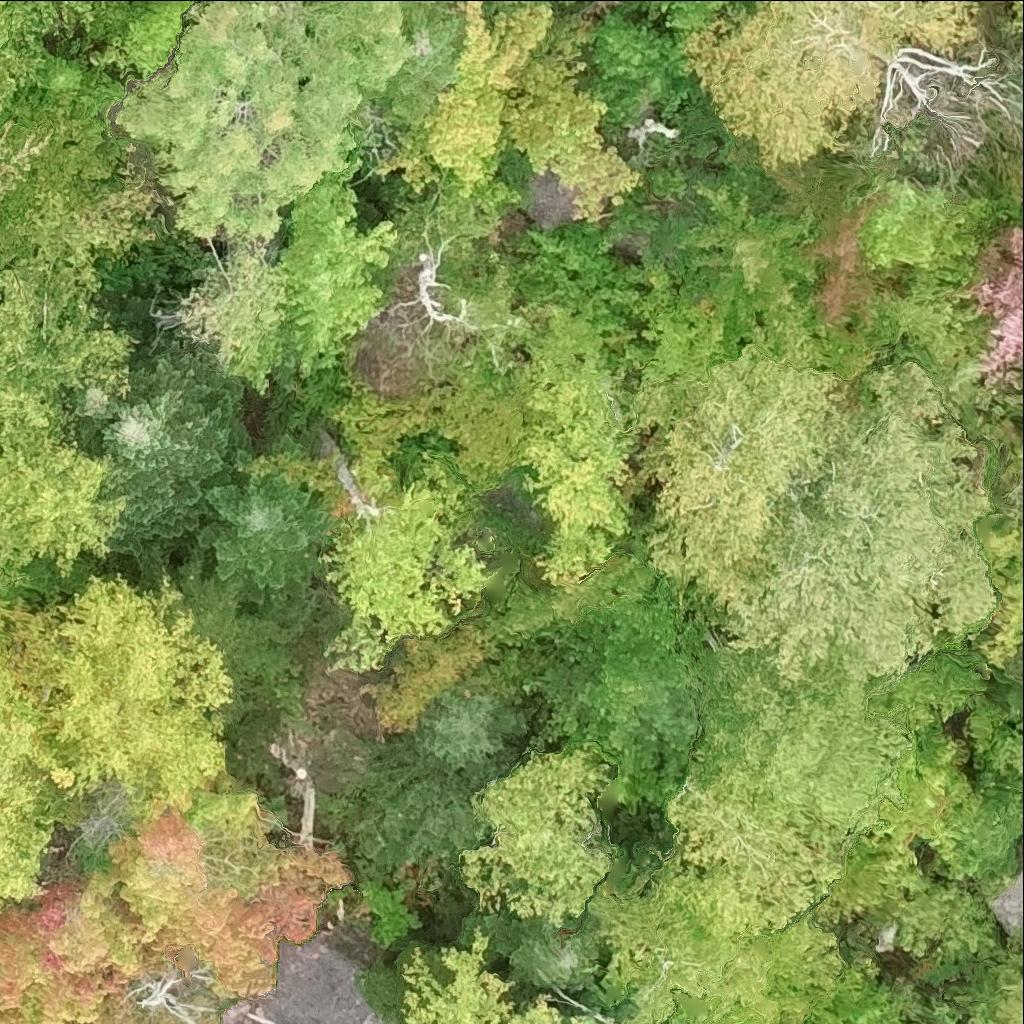crown: (729, 361, 996, 685), (0, 572, 232, 913), (634, 345, 876, 622), (108, 772, 351, 1006), (682, 0, 981, 173), (686, 636, 913, 852), (331, 287, 559, 479), (232, 171, 402, 398), (0, 52, 160, 289), (319, 458, 486, 673), (373, 0, 550, 197), (538, 596, 700, 810), (521, 312, 646, 587), (798, 175, 1020, 326), (670, 774, 843, 943), (501, 13, 639, 223), (101, 354, 251, 540), (584, 852, 743, 1023), (461, 745, 610, 922), (0, 870, 167, 1023), (675, 184, 817, 361), (0, 262, 135, 442), (851, 735, 980, 877), (765, 910, 914, 1023), (0, 434, 115, 577), (196, 479, 340, 589), (481, 556, 651, 648), (402, 927, 557, 1023), (572, 11, 687, 126), (974, 443, 1023, 669), (962, 222, 1023, 398), (482, 909, 599, 991), (414, 689, 527, 772), (890, 881, 995, 961), (390, 231, 451, 338), (625, 0, 724, 30), (74, 385, 122, 444), (997, 954, 1023, 1023), (1009, 0, 1023, 33), (0, 5, 9, 44), (574, 1017, 594, 1023), (939, 1017, 951, 1023), (678, 1018, 687, 1023), (82, 1022, 88, 1023)
